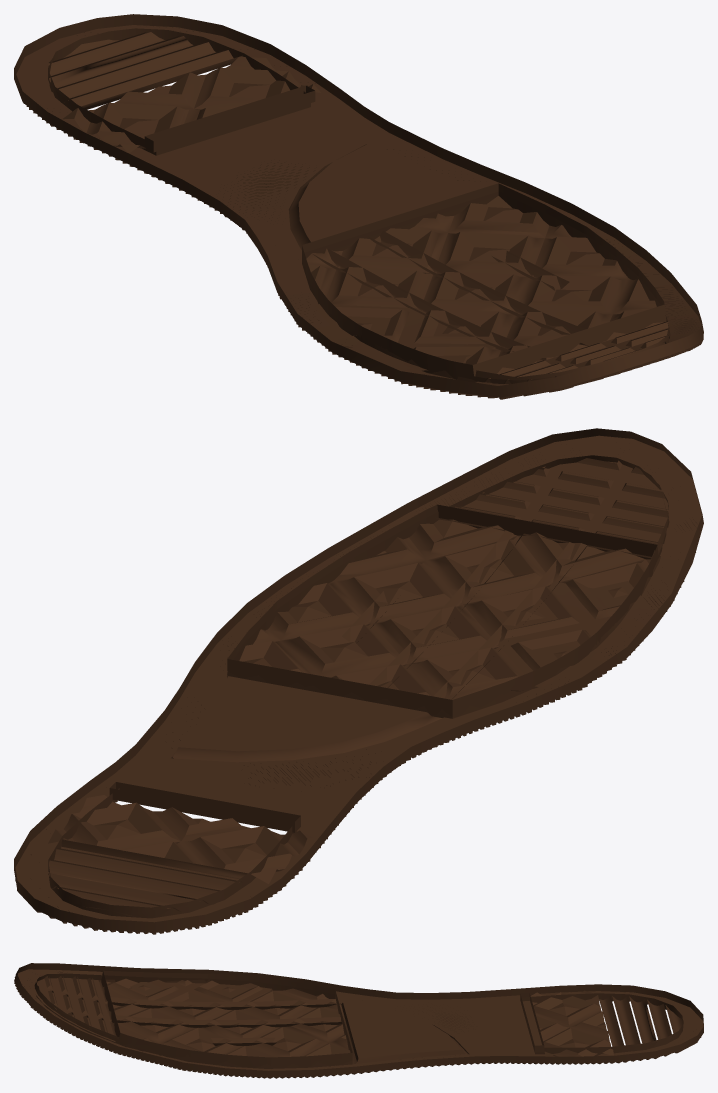
The model's file is Chuck70_H_LowPoly03_optimise_Outsole.glb.
3 renders of one model, top to bottom at view 1: azimuth 30°, elevation 25°; view 2: azimuth 150°, elevation 25°; view 3: azimuth 270°, elevation 25°, orthographic. The views are drawn at different scales.
Visible parts, largest first — view 1: Outsole; view 2: Outsole; view 3: Outsole.
Part boxes in pixels (bbox=[...]): Outsole: bbox=[14, 14, 703, 399]; Outsole: bbox=[14, 428, 703, 934]; Outsole: bbox=[14, 963, 703, 1078].
Bounding box in the file's own units: 1.6 × 0.4055 × 4.66.
